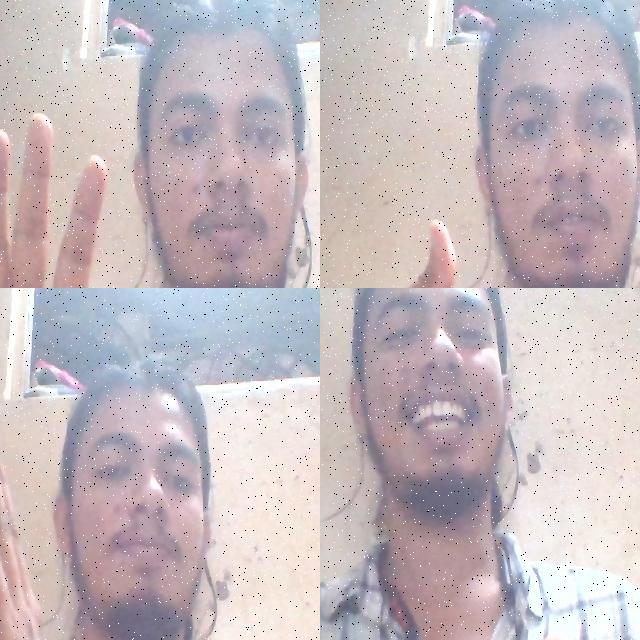Hello: (0, 111, 163, 288)
Thank You: (0, 398, 82, 640)
